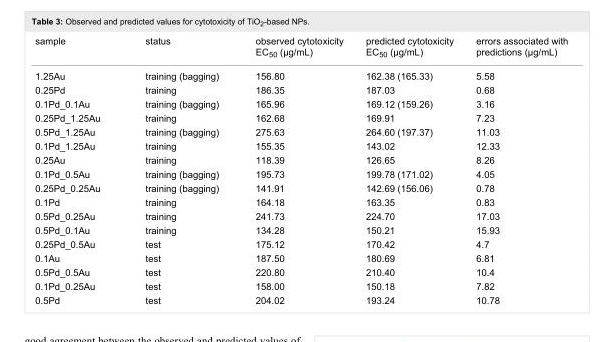table: (34, 34, 567, 305)
table column: (236, 34, 353, 305), (122, 34, 236, 305), (353, 34, 464, 305), (464, 34, 567, 305), (34, 34, 122, 305)
table row: (34, 34, 567, 64), (34, 64, 567, 82), (34, 82, 567, 96), (34, 96, 567, 110), (34, 110, 567, 124), (34, 124, 567, 138), (34, 138, 567, 152), (34, 152, 567, 166), (34, 166, 567, 180), (34, 180, 567, 194), (34, 194, 567, 208), (34, 208, 567, 222), (34, 222, 567, 236), (34, 236, 567, 250), (34, 250, 567, 264), (34, 264, 567, 278), (34, 278, 567, 292), (34, 292, 567, 305)
